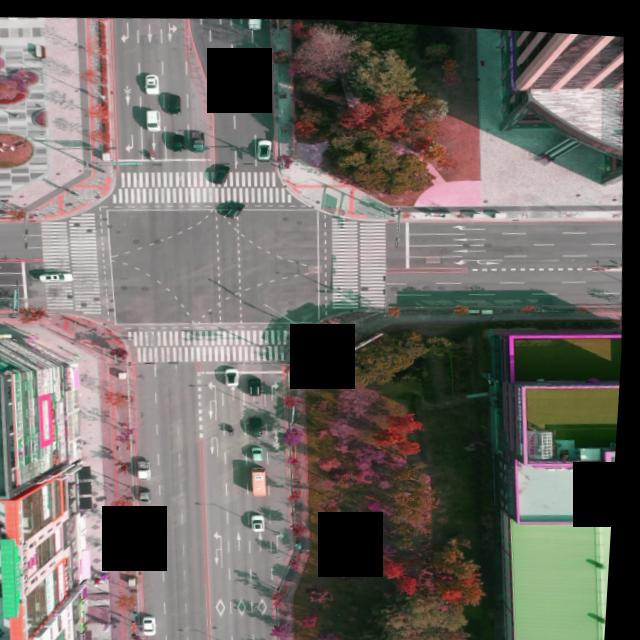car: (211, 161, 235, 183), (226, 196, 250, 217), (258, 134, 276, 156), (142, 536, 160, 558), (44, 269, 77, 281), (147, 106, 165, 128), (144, 509, 161, 530), (150, 611, 166, 632), (146, 71, 162, 92), (235, 47, 251, 67), (229, 362, 244, 382), (169, 93, 183, 112), (173, 127, 186, 147), (256, 411, 269, 431), (258, 509, 273, 526), (254, 372, 268, 390), (257, 441, 271, 457), (146, 483, 160, 499), (153, 640, 168, 640)
small_bus: (256, 464, 276, 494)
small_truck: (143, 457, 159, 478), (194, 126, 209, 147), (247, 14, 263, 27)
